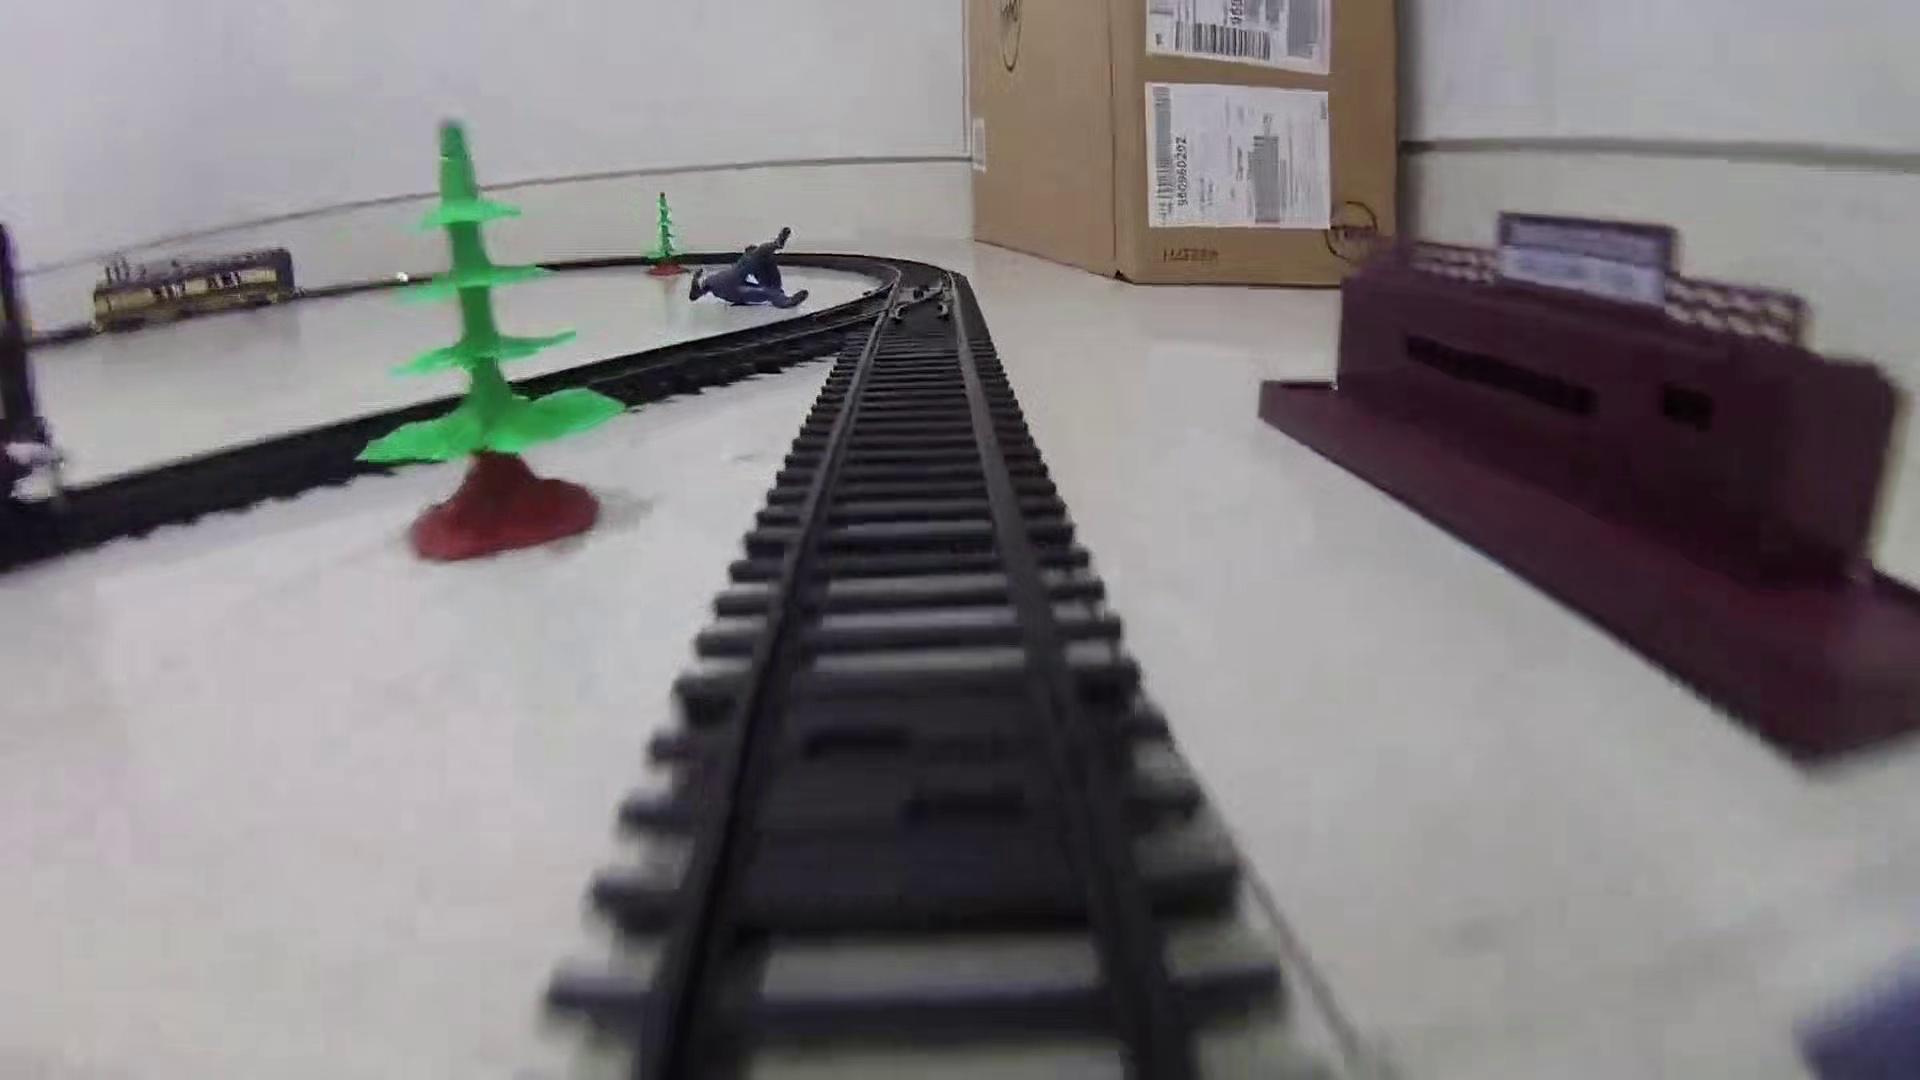people: (685, 225, 812, 315)
tree: (353, 116, 636, 566), (642, 188, 691, 281)
